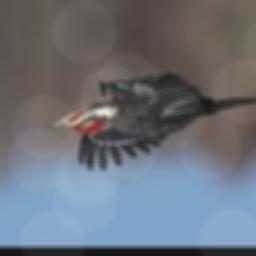Woodpecker: (43, 72, 256, 172)
